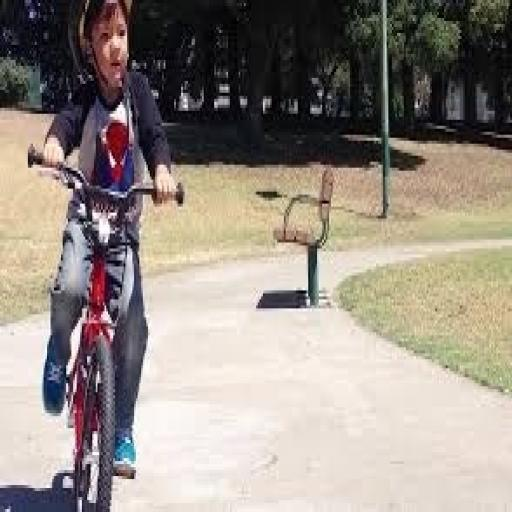cycling: (33, 0, 181, 482)
